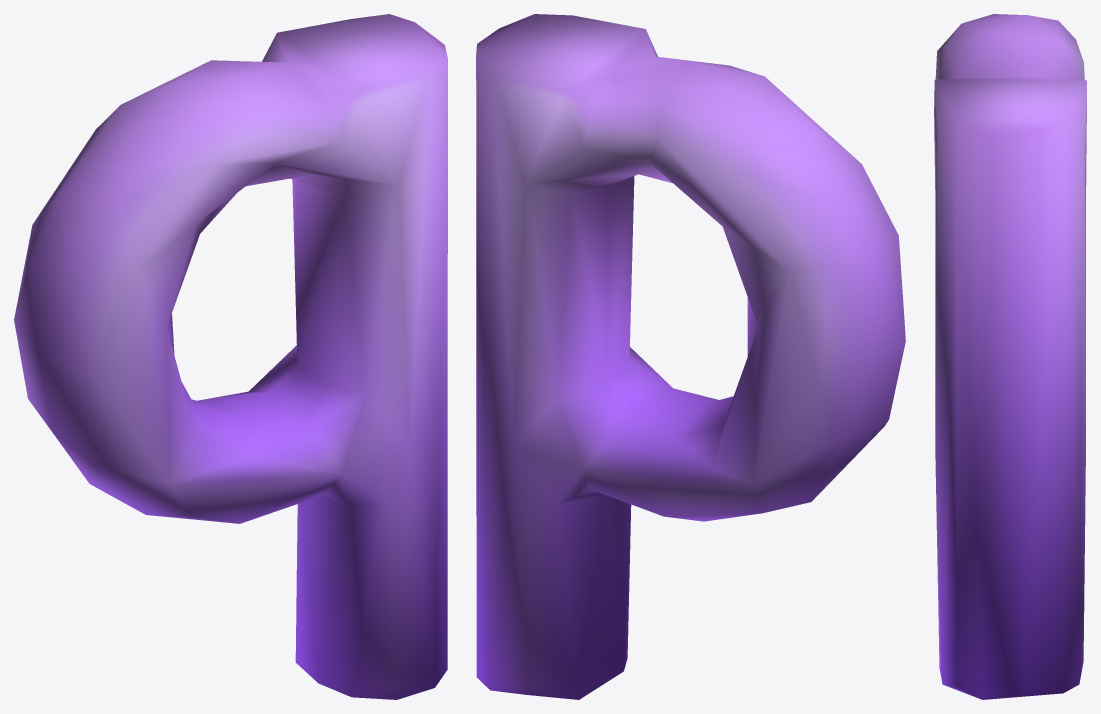
3 views of the same model, side by side, from view 1: azimuth 30°, elevation 25°; view 2: azimuth 150°, elevation 25°; view 3: azimuth 270°, elevation 25° (orthographic). The views are drawn at different scales.
Visible parts, largest first — view 1: Processed_Mesh0_Geometry; view 2: Processed_Mesh0_Geometry; view 3: Processed_Mesh0_Geometry.
Part boxes in pixels (bbox=[...]): Processed_Mesh0_Geometry: bbox=[14, 14, 447, 699]; Processed_Mesh0_Geometry: bbox=[476, 14, 905, 699]; Processed_Mesh0_Geometry: bbox=[934, 14, 1086, 699].
Size of what is drawn, in the model's own units: 0.0559 by 0.0847 by 0.0198.
Materials: 1 (1 with a texture image).
